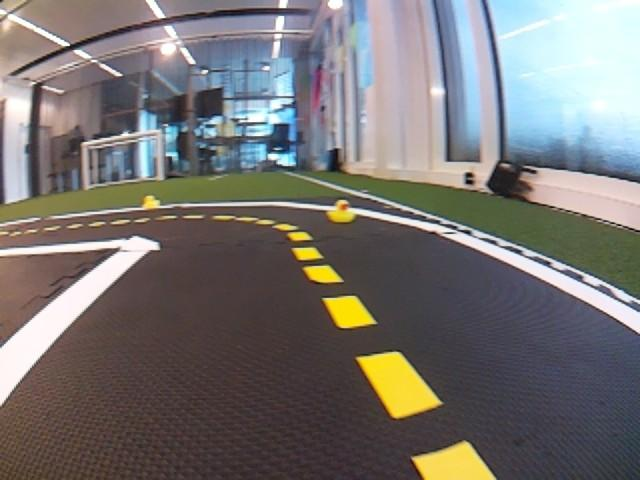Duckies: (325, 200, 356, 223), (142, 195, 160, 209)
